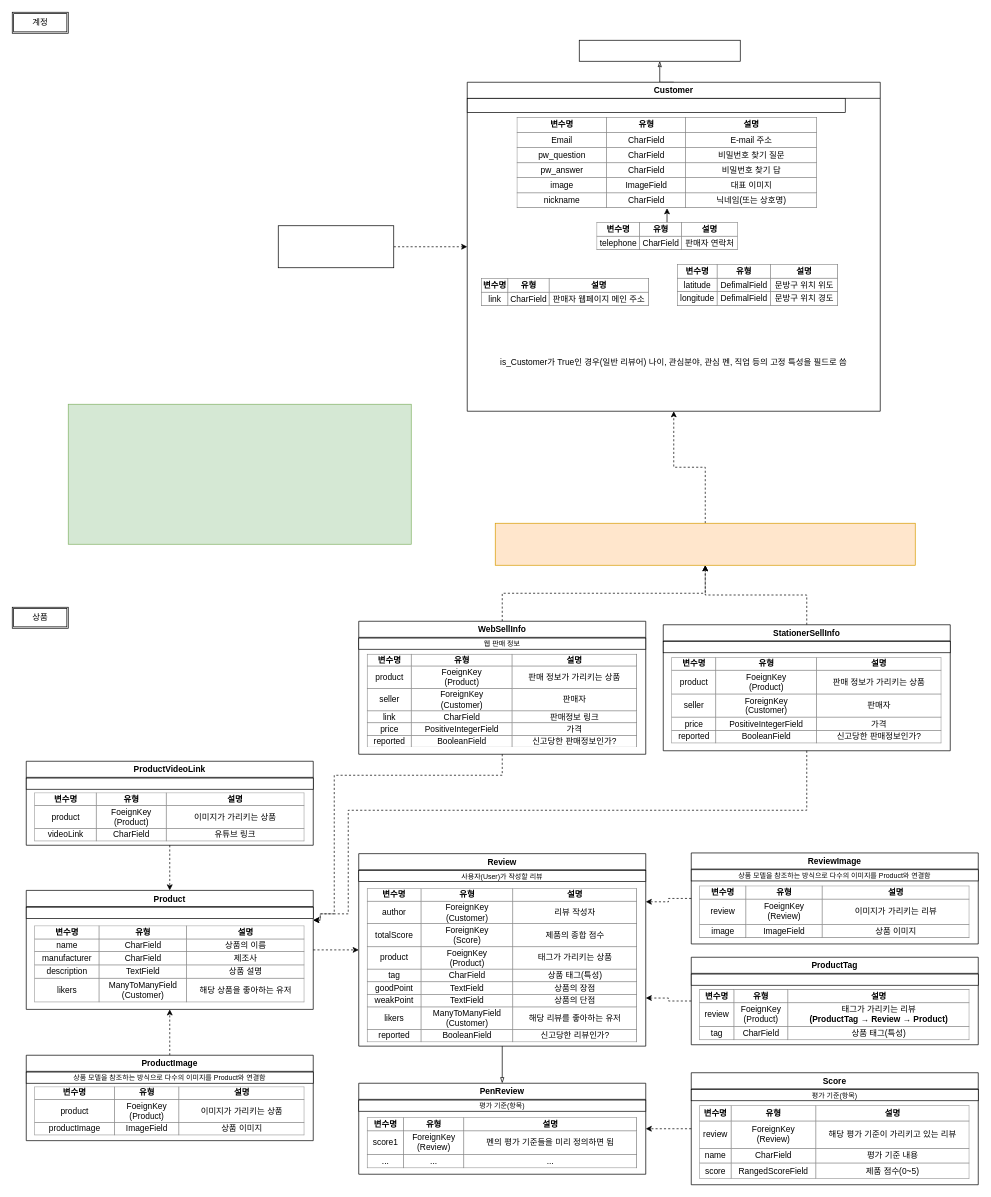
The diagram is 991 pixels wide and 1197 high, and some of its shapes have lost their labels. The shapes that lost their labels are listed below. From the top down, each one's centre as x and y in pixels, then its label:
At pixel 659 50: "django.contrib.auth.models . AbstractUser".
At pixel 656 105: "BooleanField 3 종류(is_Customer, is_WebSeller, is_Stationer)로 구분됨".
At pixel 336 246: "추가 태그 : 리뷰어의 특성을 나타냄 : ManyToMany로 구현".
At pixel 239 474: "웹페이지 전체에 걸쳐서 Customer BooleanField 3종세트로 유저 모델을 구별해야 함".
At pixel 705 544: "SellInfo를 어떻게 구현하지?".
At pixel 806 647: "문구점 판매 정보".
At pixel 169 783: "상품 모델을 참조하는 방식으로 다수의 비디오 링크를 Product와 연결함(iframe 태그 사용)".
At pixel 169 912: "상품 모델".
At pixel 834 979: "리뷰 모델을 참조하는 방식으로 다수의 태그(제품 특성)를 Review와 연결함".
